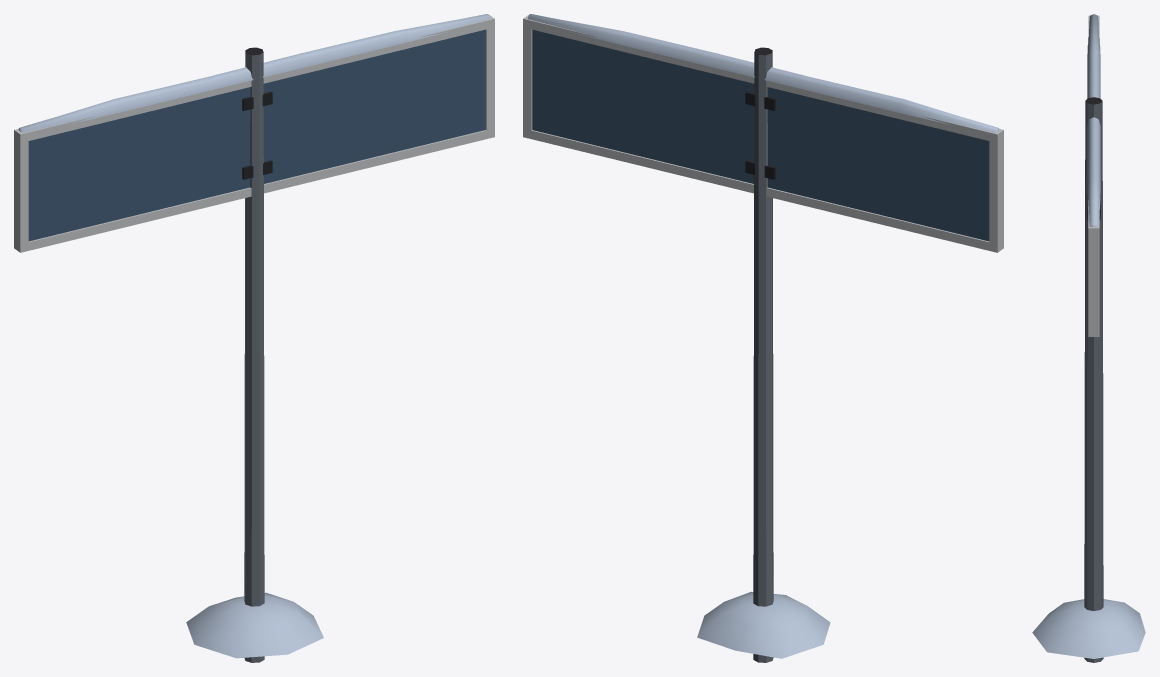
Rendered from sign_street.glb.
The picture shows the model from 3 angles, left to right: view 1: azimuth 30°, elevation 25°; view 2: azimuth 150°, elevation 25°; view 3: azimuth 270°, elevation 25°; orthographic projection. The views are drawn at different scales.
Parts seen in each view (by area): view 1: Panel, Prop; view 2: Panel, Prop; view 3: Prop.
Boxes of the visible parts, <box> form: Panel: <box>28,29,485,241</box>; Prop: <box>14,14,494,662</box>; Panel: <box>532,29,989,241</box>; Prop: <box>523,14,1003,662</box>; Prop: <box>1032,14,1145,662</box>.
Bounding box in the file's own units: 2.6 × 3.18 × 0.586.
